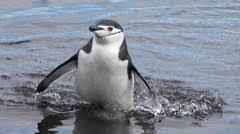chinstrap: (52, 16, 147, 118)
